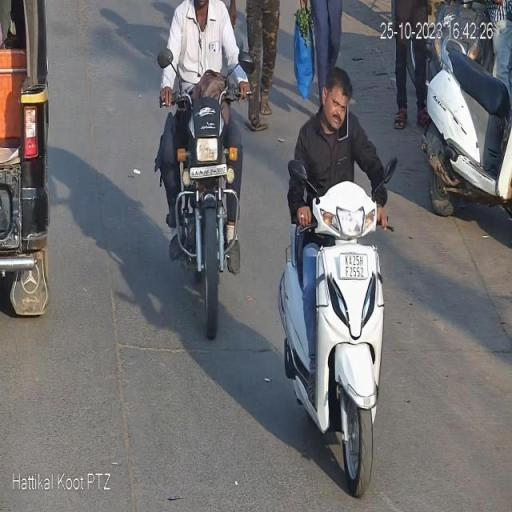using mobile: (336, 90, 352, 145)
